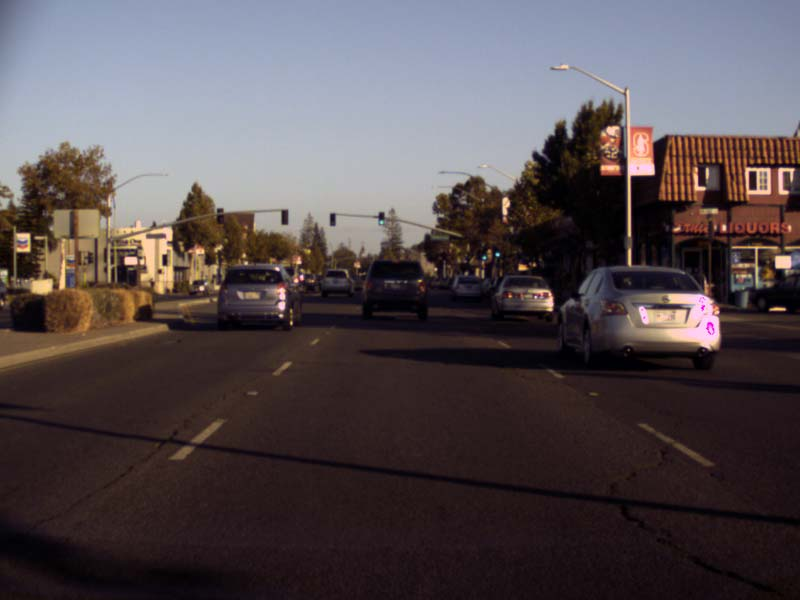Green: (479, 244, 486, 259), (493, 243, 499, 257), (378, 212, 384, 225), (330, 213, 335, 225)
